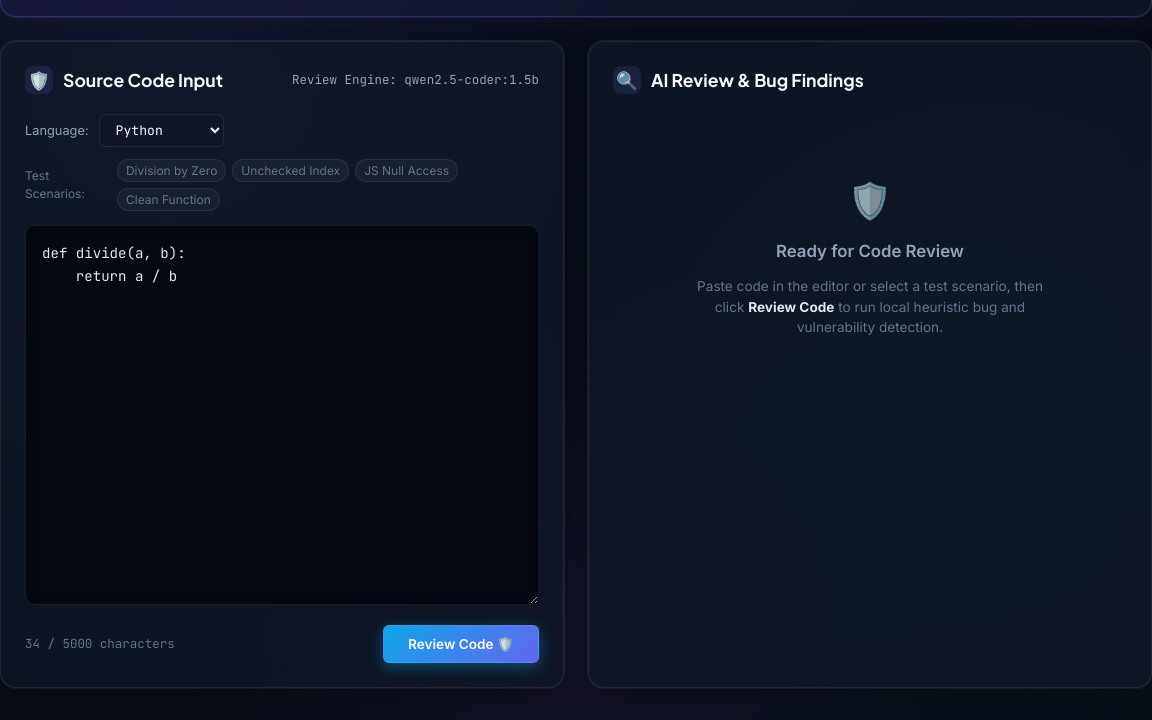
Test: CodeReviewView Feature Integration › submits code and renders structured review findings on success
(page scrolled)
Click the button named "Review Code with AI".
click(461, 644)  # box [383, 625, 539, 663]
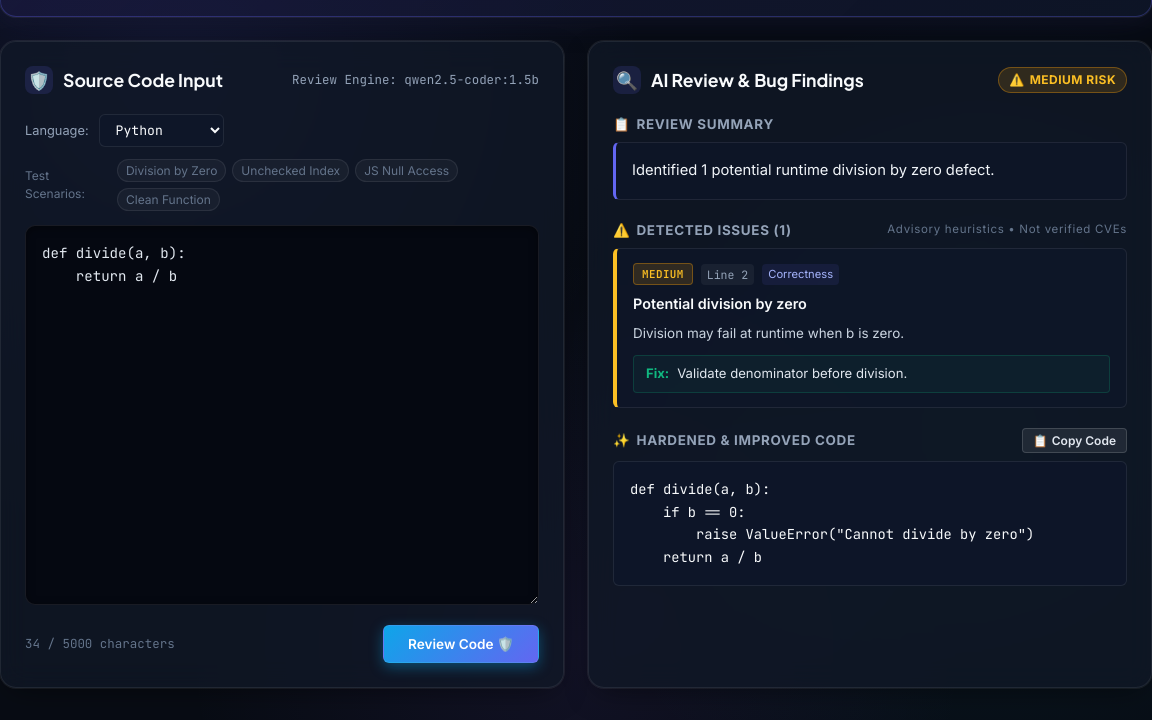
Check: the text "MEDIUM RISK" is shown, box [1030, 71, 1116, 89]
Check: the text "Identified 1 potential runtime division by zero defect." is shown, box [613, 142, 1127, 200]
Check: the text "Potential division by zero" is shown, box [633, 295, 807, 312]
